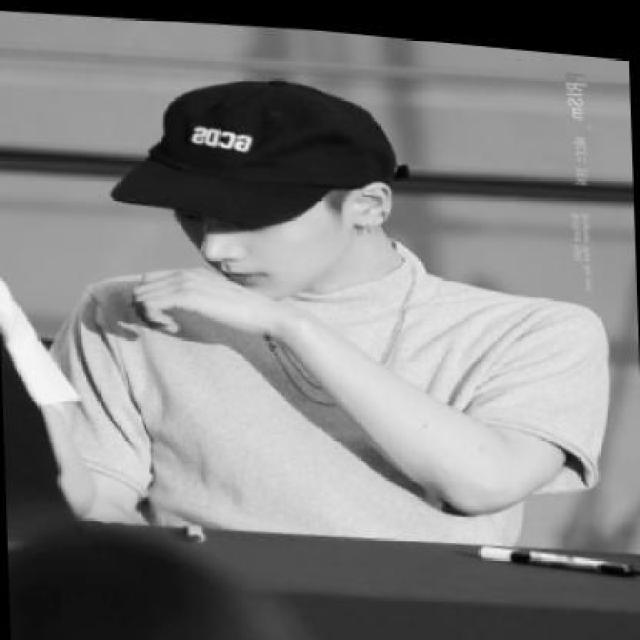hat: (105, 57, 417, 245)
